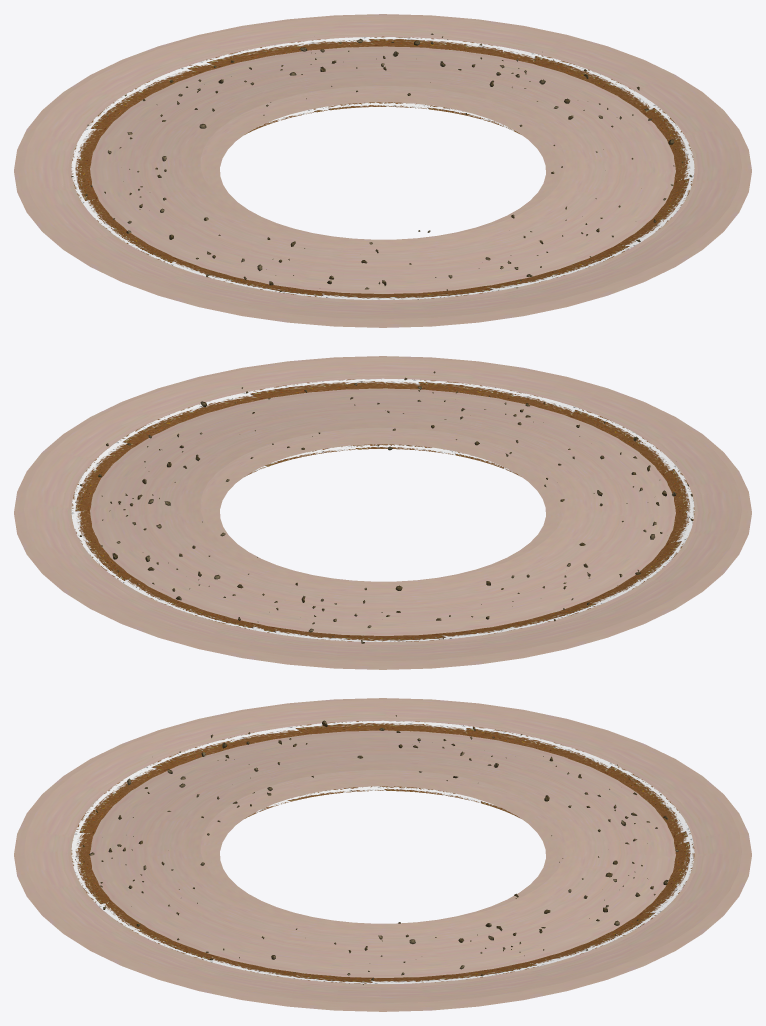
The model's file is AsteroRingSimplified.fbx.
The picture shows the model from 3 angles, top to bottom: view 1: azimuth 30°, elevation 25°; view 2: azimuth 150°, elevation 25°; view 3: azimuth 270°, elevation 25°; orthographic projection.
Visible parts, largest first — view 1: Ring of Dust, SmallRockring, AsteroidRing; view 2: Ring of Dust, SmallRockring, AsteroidRing; view 3: Ring of Dust, SmallRockring, AsteroidRing.
Boxes of the visible parts, x1=… form: Ring of Dust: x1=14, y1=14, x2=751, y2=327; SmallRockring: x1=71, y1=36, x2=694, y2=299; AsteroidRing: x1=71, y1=33, x2=691, y2=291; Ring of Dust: x1=14, y1=356, x2=751, y2=669; SmallRockring: x1=71, y1=378, x2=694, y2=641; AsteroidRing: x1=75, y1=371, x2=692, y2=643; Ring of Dust: x1=14, y1=698, x2=751, y2=1011; SmallRockring: x1=71, y1=720, x2=694, y2=983; AsteroidRing: x1=75, y1=715, x2=683, y2=984.
Size of the model in its own units: 19053 by 920 by 19053.
